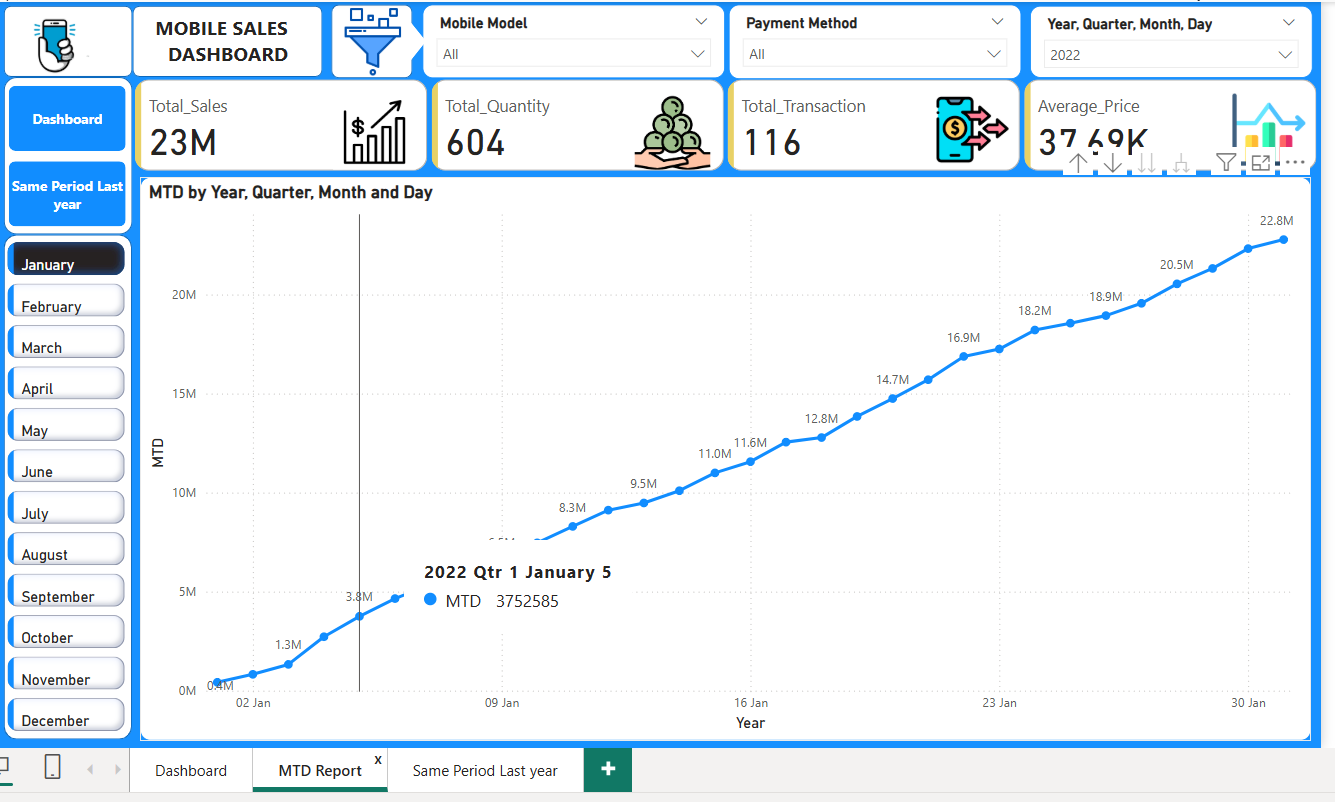

What the dashboard file says about the page in this screenshot:
{"tool":"powerbi","page":{"name":"MTD Report","canvas":[1280,720],"ordinal":1},"visuals":[{"type":"shape","box":[8.4,3.6,124.3,68.8],"z":0},{"type":"image","box":[19.3,3.6,77.2,77.2],"z":1000},{"type":"shape","box":[8.4,72.4,124.3,152],"z":2000},{"type":"cardVisual","fields":{"Data":["Mobile_Sales_Data.Total_Sales","Mobile_Sales_Data.Total_Quantity","Mobile_Sales_Data.Total_Transaction","Mobile_Sales_Data.Average_Price"]},"box":[130,70,1150,98.8],"z":3000},{"type":"slicer","fields":{"Values":["Mobile_Sales_Data.Mobile Model"]},"box":[412.6,2.4,292,71.2],"z":4000},{"type":"slicer","fields":{"Values":["Mobile_Sales_Data.Payment Method"]},"box":[708.2,2.4,282.3,72.4],"z":5000},{"type":"slicer","fields":{"Values":["Custom_Calendar.Date.Variation.Date Hierarchy.Year","Custom_Calendar.Date.Variation.Date Hierarchy.Quarter","Custom_Calendar.Date.Variation.Date Hierarchy.Month","Custom_Calendar.Date.Variation.Date Hierarchy.Day"]},"box":[998.9,3.6,272.7,70],"z":6000},{"type":"shape","box":[324.5,2.4,78.4,71.2],"z":7000},{"type":"shape","box":[382.4,16.9,33.8,42.2],"z":8000},{"type":"image","box":[277.5,0,173.7,77.2],"z":9000},{"type":"shape","box":[132.7,3.6,183.4,68.8],"z":10000},{"type":"textbox","box":[149.6,7.2,150.8,62.7],"z":11000},{"type":"lineChart","fields":{"Y":["Mobile_Sales_Data.MTD"],"Category":["Custom_Calendar.Date.Variation.Date Hierarchy.Year","Custom_Calendar.Date.Variation.Date Hierarchy.Quarter","Custom_Calendar.Date.Variation.Date Hierarchy.Month","Custom_Calendar.Date.Variation.Date Hierarchy.Day"]},"box":[140,168.8,1130,543.8],"z":12000},{"type":"shape","box":[8.8,225,123.8,487.5],"z":13000},{"type":"advancedSlicerVisual","fields":{"Values":["Custom_Calendar.Date.Variation.Date Hierarchy.Month"]},"box":[7.5,226.2,123.8,486.2],"z":14000},{"type":"pageNavigator","box":[13.8,81.2,113.8,136.2],"z":15000}]}

Visuals, with their boxes on the page's 1280x720 design canvas (x1, y1, x2, y2). These are canvas units, not pixel positions in the 1335x802 screenshot, which may show the page scaled, cropped or inside an application window:
shape: [8,4,133,72]
image: [19,4,96,81]
shape: [8,72,133,224]
cardVisual - Mobile_Sales_Data.Total_Sales x Mobile_Sales_Data.Total_Quantity: [130,70,1280,169]
slicer - Mobile_Sales_Data.Mobile Model: [413,2,705,74]
slicer - Mobile_Sales_Data.Payment Method: [708,2,990,75]
slicer - Custom_Calendar.Date.Variation.Date Hierarchy.Year x Custom_Calendar.Date.Variation.Date Hierarchy.Quarter: [999,4,1272,74]
shape: [324,2,403,74]
shape: [382,17,416,59]
image: [278,0,451,77]
shape: [133,4,316,72]
textbox: [150,7,300,70]
lineChart - Mobile_Sales_Data.MTD x Custom_Calendar.Date.Variation.Date Hierarchy.Year: [140,169,1270,713]
shape: [9,225,133,712]
advancedSlicerVisual - Custom_Calendar.Date.Variation.Date Hierarchy.Month: [8,226,131,712]
pageNavigator: [14,81,128,217]
